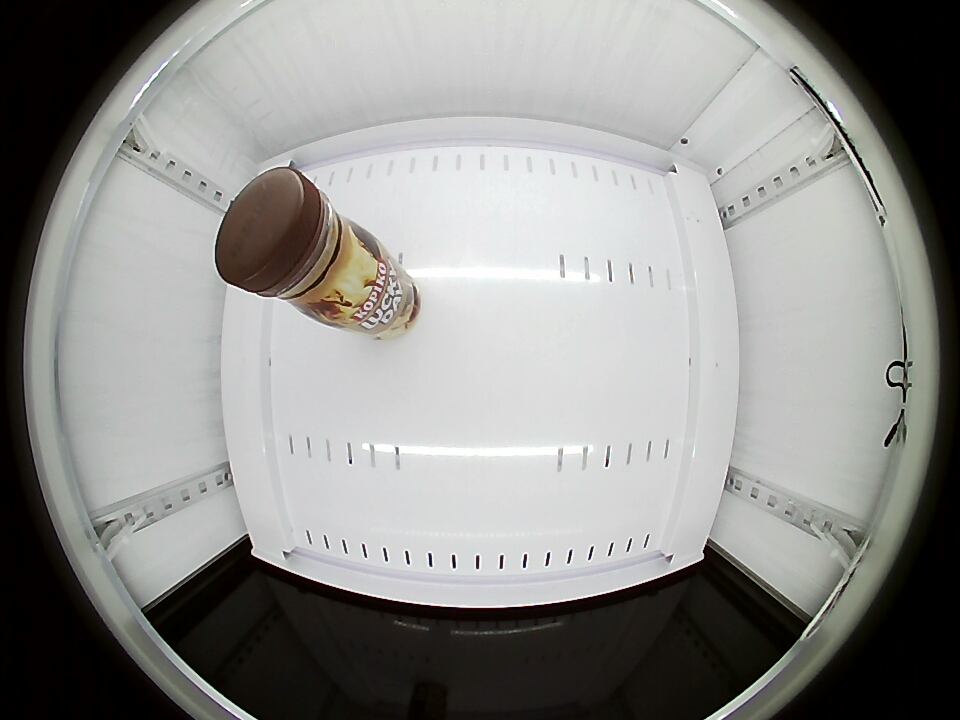lujikafei: (213, 165, 373, 321)
